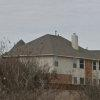Chimney: (60, 24, 87, 61)
